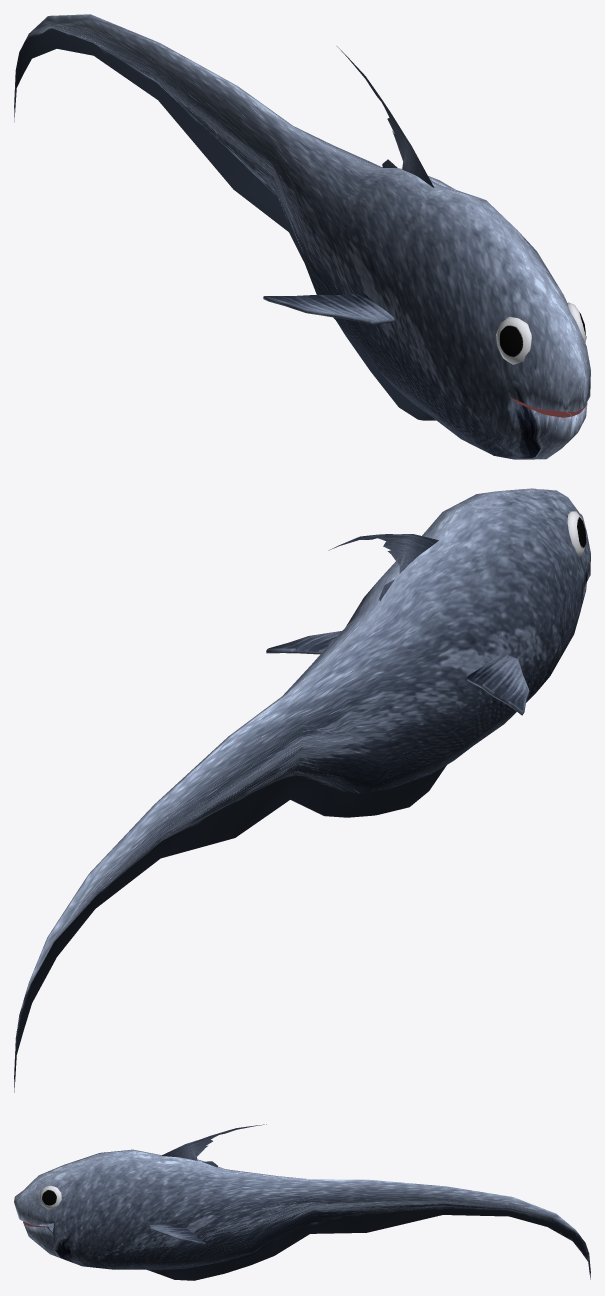
Rendered from Rudis Rattail.glb.
3 renders of one model, top to bottom at view 1: azimuth 30°, elevation 25°; view 2: azimuth 150°, elevation 25°; view 3: azimuth 270°, elevation 25°, orthographic. The views are drawn at different scales.
Parts seen in each view (by area): view 1: Circle.001; view 2: Circle.001; view 3: Circle.001.
Part boxes in pixels (x1,y1,x2,y2): Circle.001: (14, 14, 590, 459); Circle.001: (14, 488, 590, 1092); Circle.001: (14, 1124, 590, 1280).
Size of the model in its own units: 3.11 by 3.62 by 11.95.
Materials: 2 (1 with a texture image).
